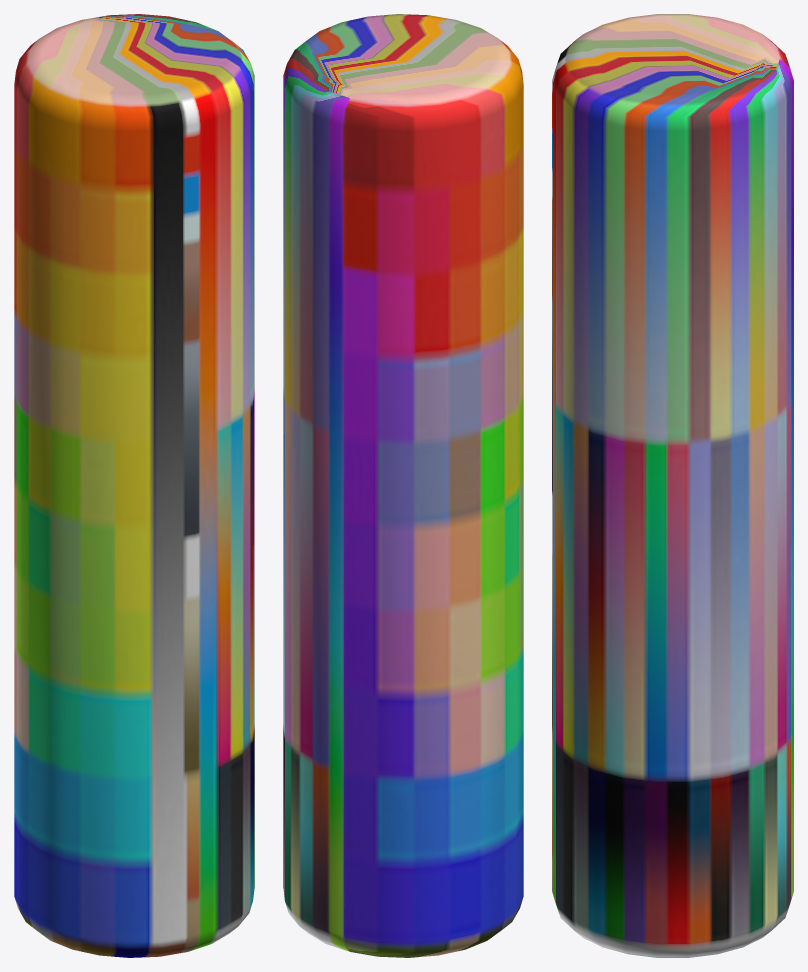
Rendered from TallTightCylinder.fbx.
3 views of the same model, side by side, from view 1: azimuth 30°, elevation 25°; view 2: azimuth 150°, elevation 25°; view 3: azimuth 270°, elevation 25° (orthographic).
Parts seen in each view (by area): view 1: Cylinder.003; view 2: Cylinder.003; view 3: Cylinder.003.
Part boxes in pixels (box(x1,y1,x2,y2)): Cylinder.003: box(14, 14, 254, 957); Cylinder.003: box(283, 14, 523, 957); Cylinder.003: box(552, 14, 793, 957).
Size of the model in its own units: 1.23 by 4.89 by 1.24.
